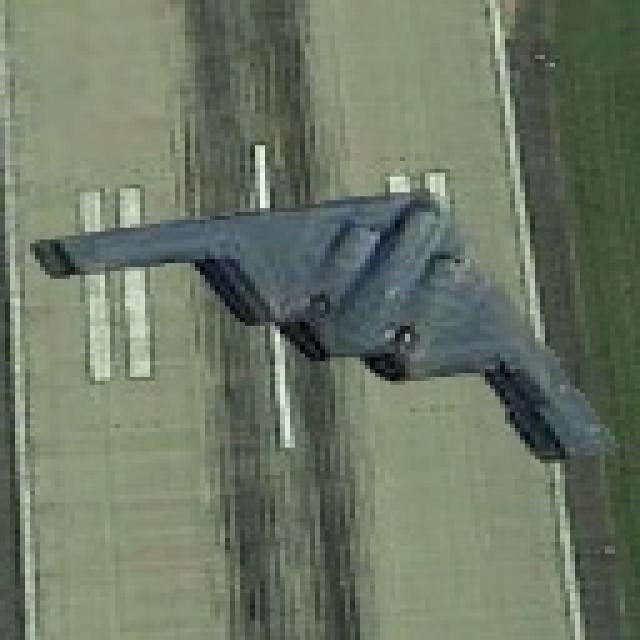B-2_TopDown: (25, 142, 620, 468)
